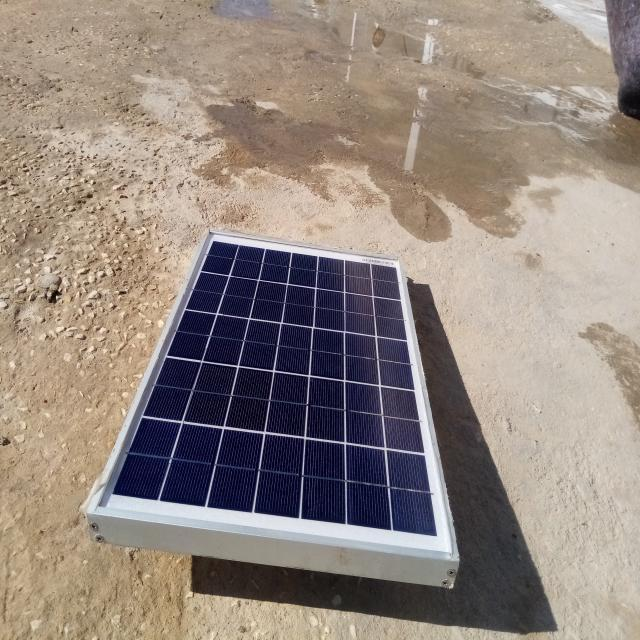Normal Solar Panel: (89, 229, 457, 559)
